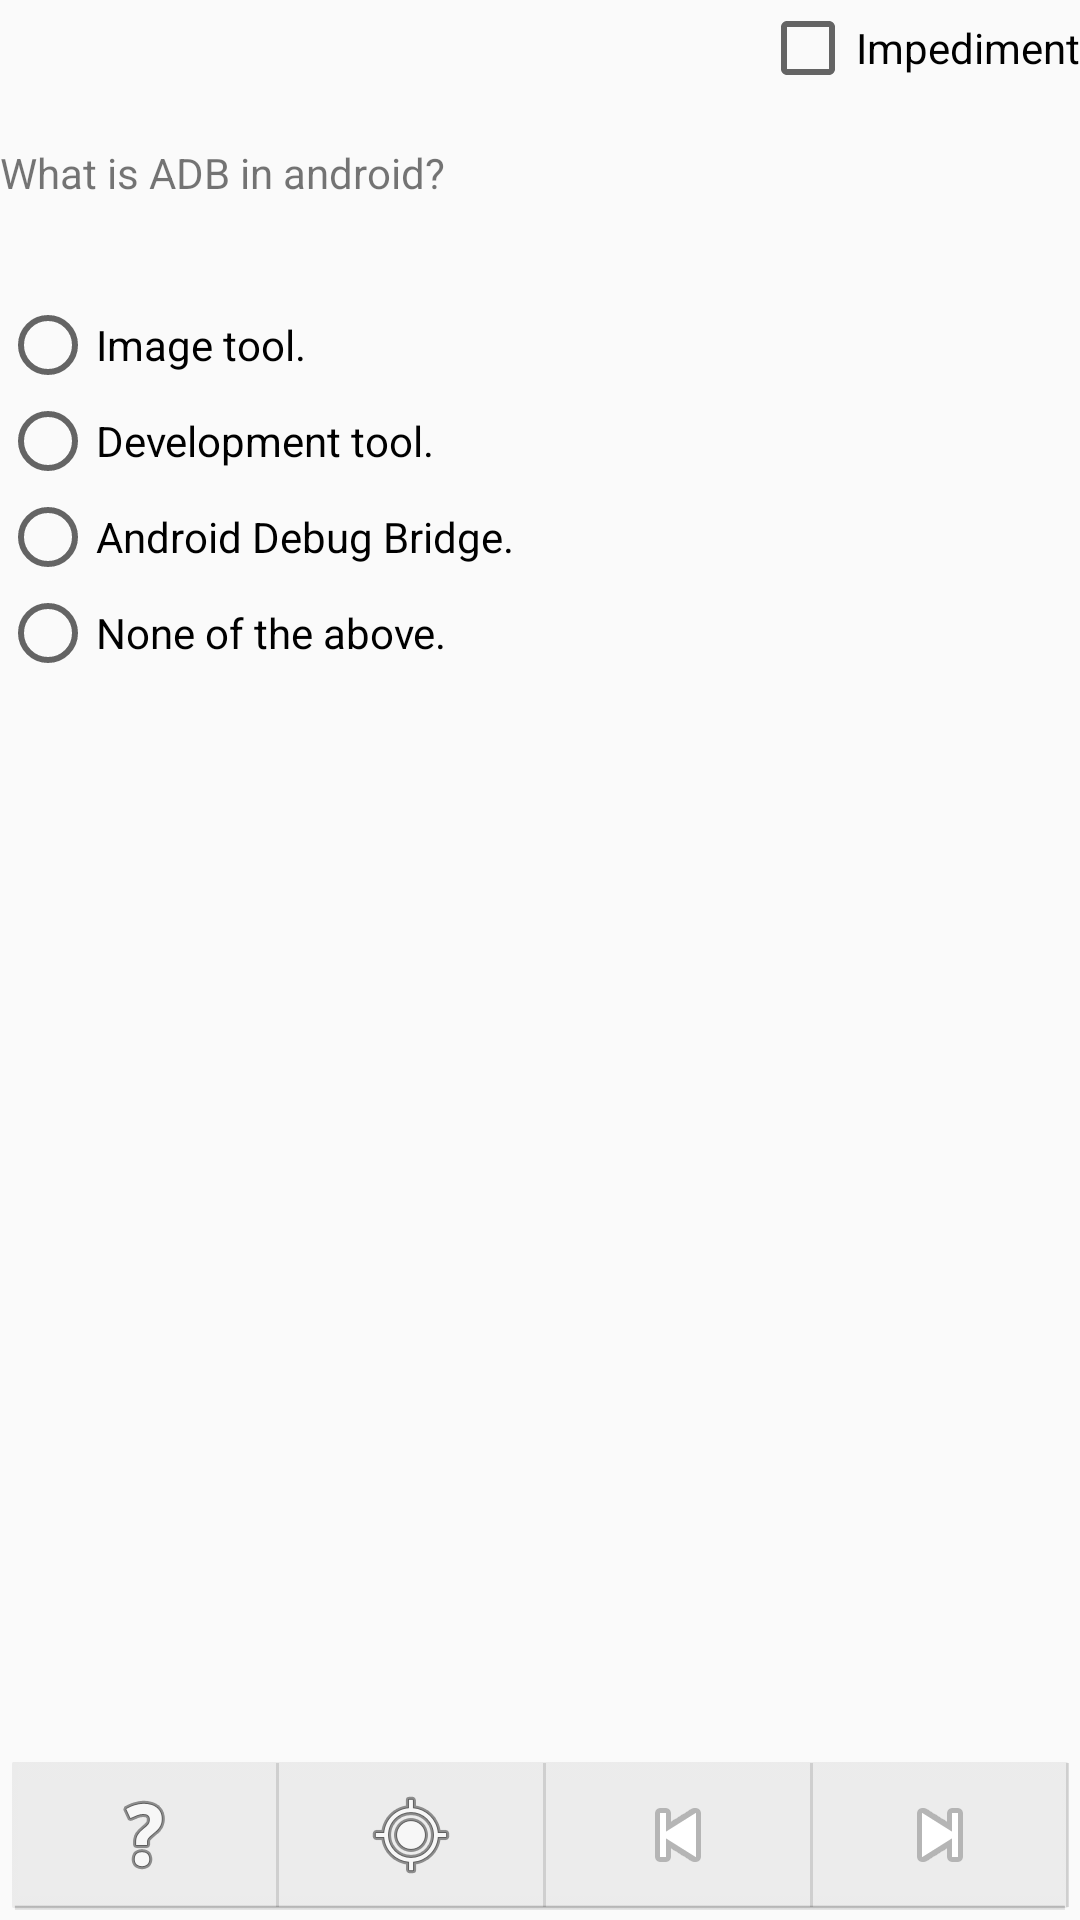

Icon click points for this 1080×1920 phone screenshot, format point (x, y):
Goto: point (411, 1835)
Help: point (144, 1835)
Next: point (939, 1835)
Previous: point (678, 1835)
